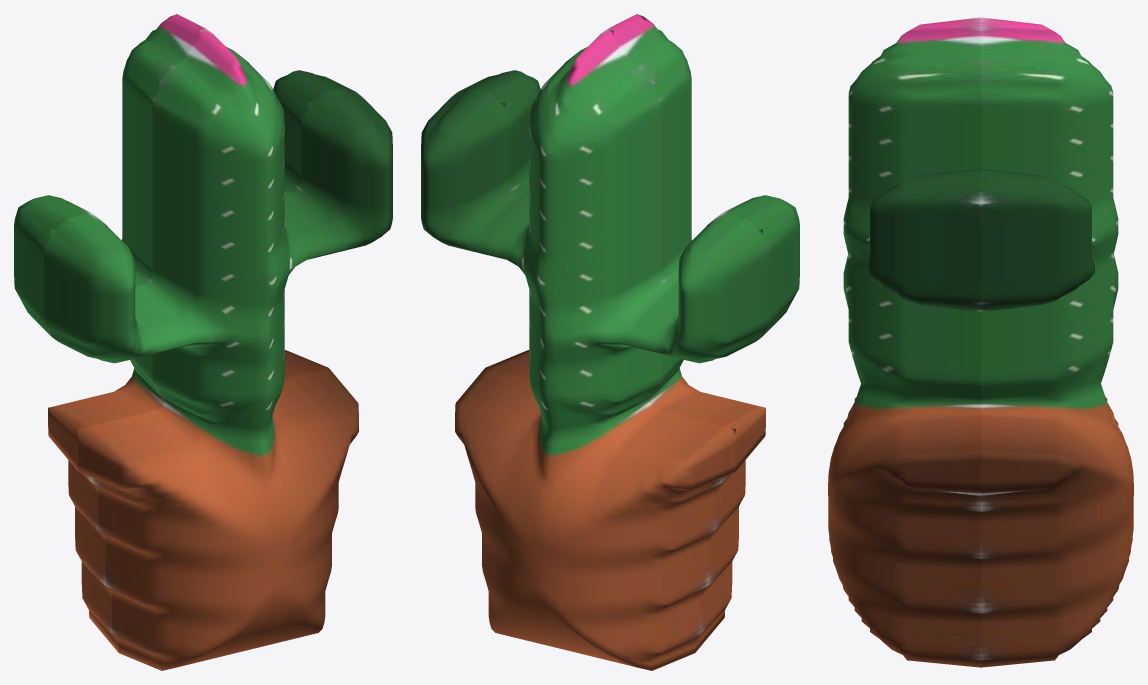
Rendered from demo-cactus.glb.
3 renders of one model, left to right at view 1: azimuth 30°, elevation 25°; view 2: azimuth 150°, elevation 25°; view 3: azimuth 270°, elevation 25°, orthographic.
Parts seen in each view (by area): view 1: modelo; view 2: modelo; view 3: modelo.
Part boxes in pixels (left/top/right/bottom): modelo: left=14, top=14, right=392, bottom=670; modelo: left=421, top=14, right=799, bottom=670; modelo: left=828, top=17, right=1133, bottom=667.
Size of the model in its own units: 0.3917 by 0.7083 by 0.32.
1 material, 1 textured.
